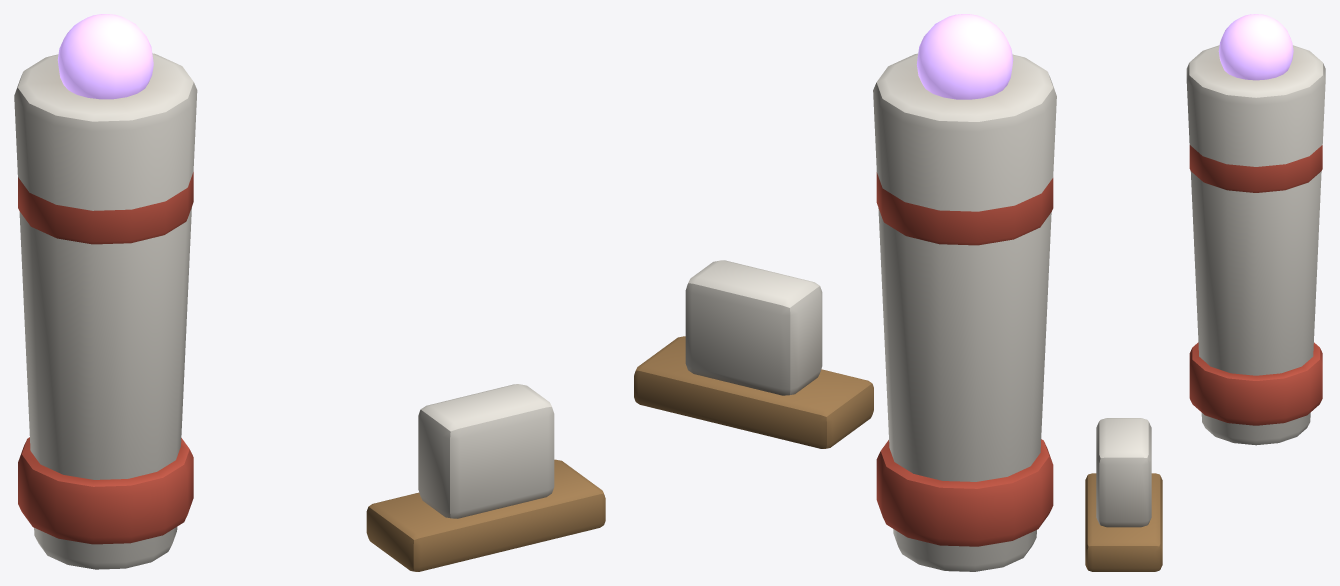
The picture shows the model from 3 angles, left to right: view 1: azimuth 30°, elevation 25°; view 2: azimuth 150°, elevation 25°; view 3: azimuth 270°, elevation 25°; orthographic projection. The views are drawn at different scales.
Parts seen in each view (by area): view 1: landmark_e07b293b; view 2: landmark_e07b293b; view 3: landmark_e07b293b.
Part boxes in pixels (x1,y1,x2,y2): landmark_e07b293b: (14, 14, 605, 571); landmark_e07b293b: (634, 14, 1056, 571); landmark_e07b293b: (1085, 14, 1325, 571).
Size of the model in its own units: 3.85 by 4.09 by 2.18.
